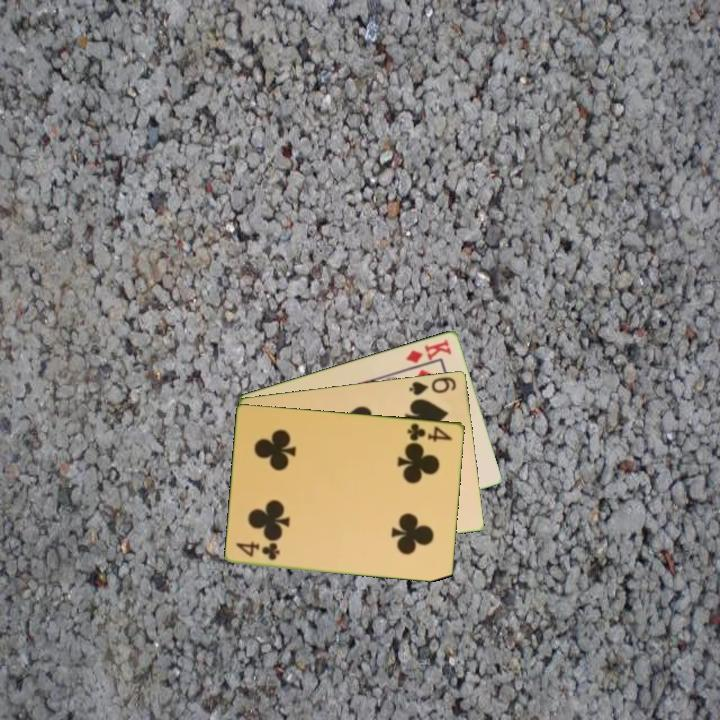4c: (404, 419, 455, 444), (232, 539, 283, 563)
6s: (406, 373, 459, 398)
Kd: (402, 335, 455, 366)
